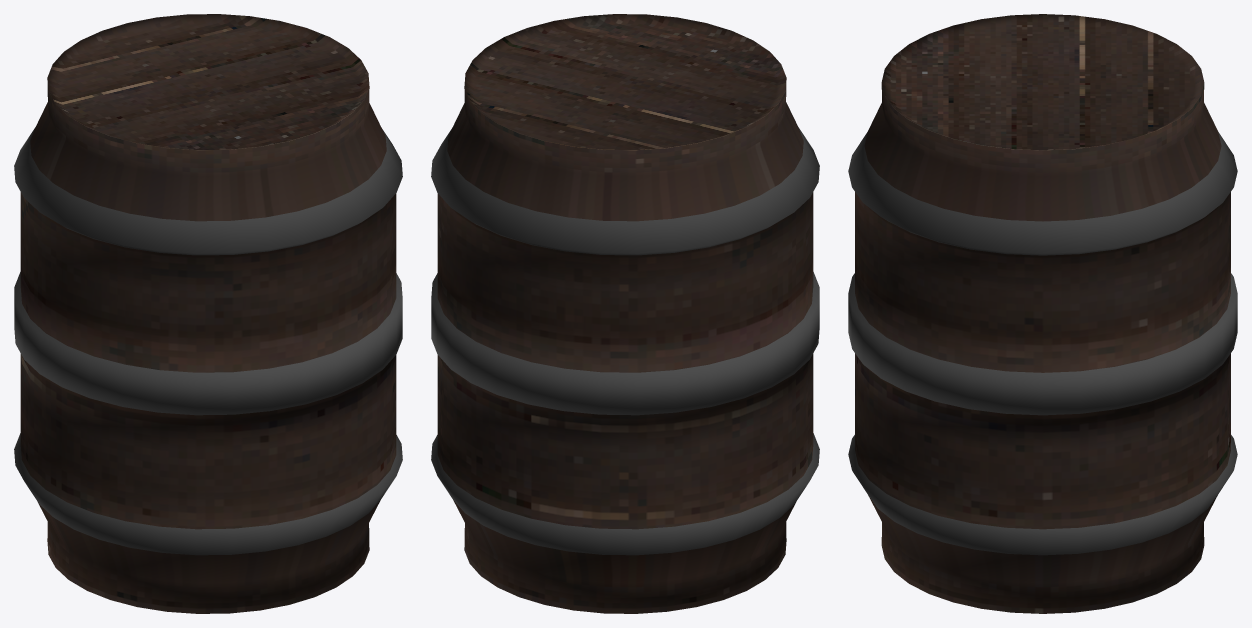
File: Barrel.fbx
3 views of the same model, side by side, from view 1: azimuth 30°, elevation 25°; view 2: azimuth 150°, elevation 25°; view 3: azimuth 270°, elevation 25° (orthographic).
Parts seen in each view (by area): view 1: Barrel; view 2: Barrel; view 3: Barrel.
Boxes of the visible parts, x1,y1,x2,y2 form: Barrel: [14, 14, 402, 613]; Barrel: [431, 14, 819, 613]; Barrel: [848, 14, 1237, 613].
Size of what is drawn, in the model's own units: 207 by 272 by 207.
